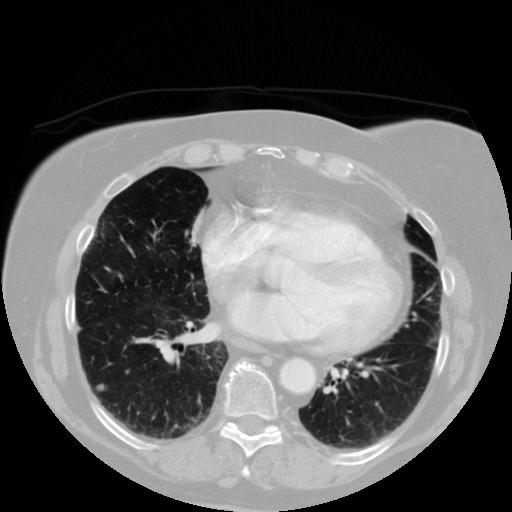nodule: (94, 381, 108, 395)
